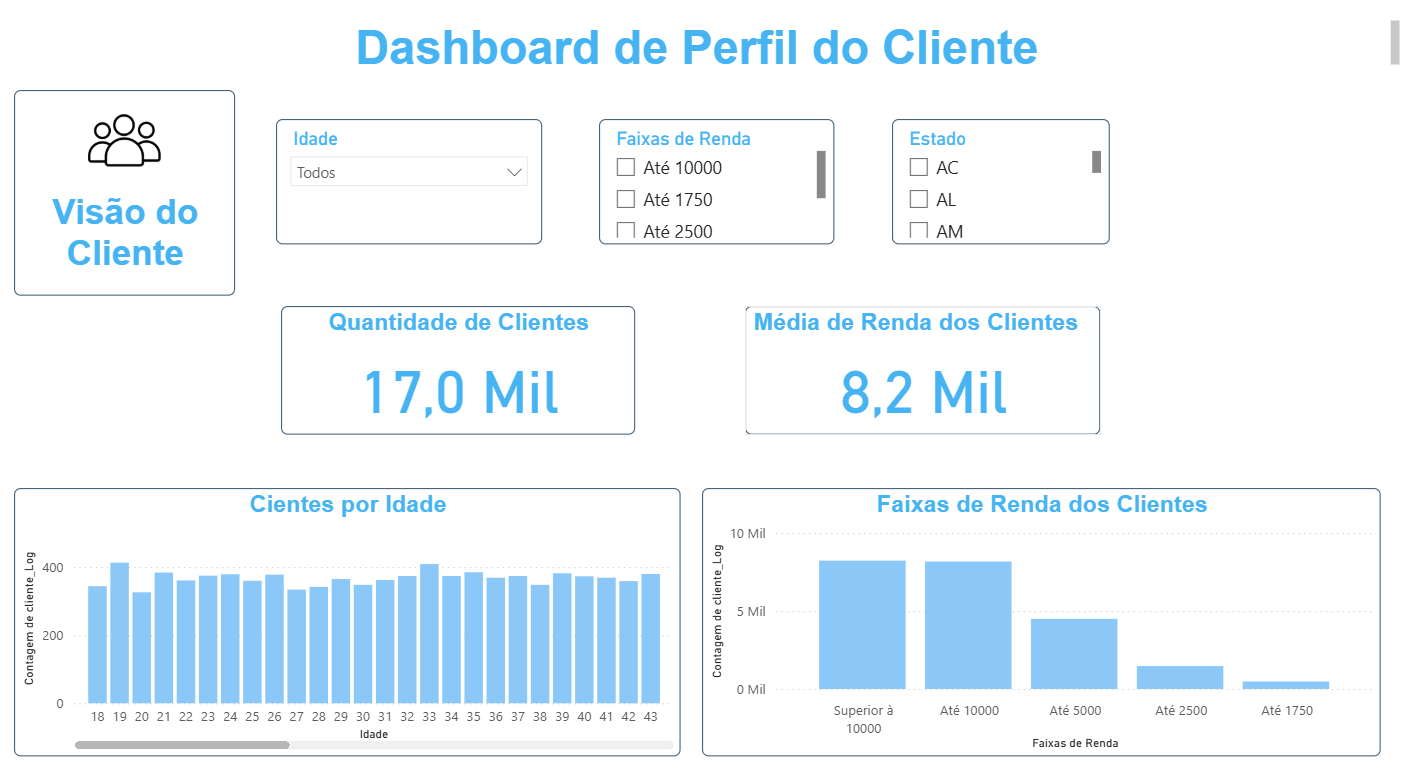

The page's visual inventory and layout, read from the dashboard file:
{"tool":"powerbi","page":{"name":"Visão dos Clientes","canvas":[1280,720],"ordinal":0},"visuals":[{"type":"card","title":"Quantidade de Clientes","fields":{"Values":["Count(Base cliente.cliente_Log)"]},"box":[258.5,279.9,321.7,117],"z":0},{"type":"card","title":"Média de Renda dos Clientes","fields":{"Values":["Avg(Base cliente.renda)"]},"box":[680.4,279.9,323.1,117],"z":1000},{"type":"columnChart","title":"Cientes por Idade","fields":{"Category":["Base cliente.idade"],"Y":["CountNonNull(Base cliente.cliente_Log)"]},"box":[15.3,445.3,605.8,243.7],"z":2000},{"type":"columnChart","title":"Faixas de Renda dos Clientes","fields":{"Category":["Base cliente.Faixas de Renda"],"Y":["Count(Base cliente.cliente_Log)"]},"box":[640.6,445.3,616.9,243.7],"z":3000},{"type":"slicer","fields":{"Values":["Base cliente.idade"]},"box":[253.9,110,242.3,114.2],"z":4000},{"type":"slicer","fields":{"Values":["Base cliente.Faixas de Renda"]},"box":[547.7,110,214.5,114.2],"z":5000},{"type":"slicer","fields":{"Values":["Base cliente.uf_nascimento"]},"box":[813.7,110,197.8,114.2],"z":6000},{"type":"textbox","box":[0,15.3,1279.8,54.3],"z":7000},{"type":"textbox","box":[15.3,83.6,200.5,186.6],"z":8000},{"type":"image","box":[51.5,90.5,128.1,76.6],"z":9000}]}

Visuals, with their boxes in screenshot pixels (x1, y1, x2, y2), scaled from the page's 1280x720 canvas onto the 1402x783 screenshot:
"Quantidade de Clientes" card: bbox=[283, 304, 636, 432]
"Média de Renda dos Clientes" card: bbox=[745, 304, 1099, 432]
"Cientes por Idade" columnChart: bbox=[17, 484, 680, 749]
"Faixas de Renda dos Clientes" columnChart: bbox=[702, 484, 1377, 749]
slicer - Base cliente.idade: bbox=[278, 120, 543, 244]
slicer - Base cliente.Faixas de Renda: bbox=[600, 120, 835, 244]
slicer - Base cliente.uf_nascimento: bbox=[891, 120, 1108, 244]
textbox: bbox=[0, 17, 1401, 76]
textbox: bbox=[17, 91, 236, 294]
image: bbox=[56, 98, 197, 182]
